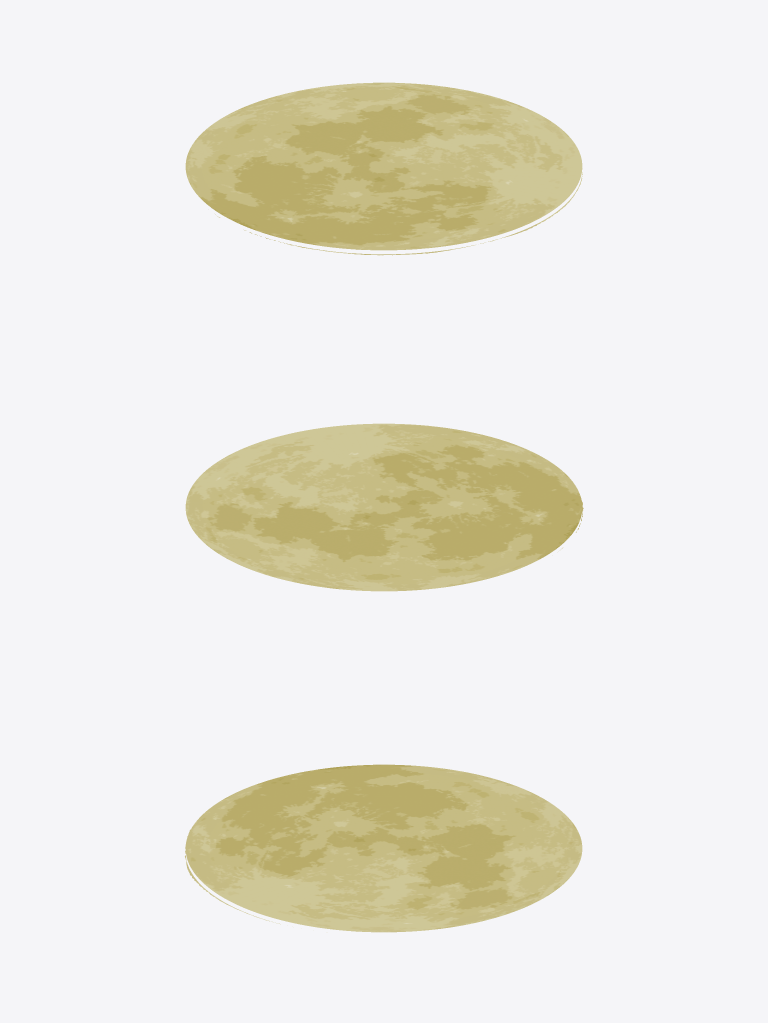
File: moon_mesh.fbx
3 renders of one model, top to bottom at view 1: azimuth 30°, elevation 25°; view 2: azimuth 150°, elevation 25°; view 3: azimuth 270°, elevation 25°, orthographic.
Parts seen in each view (by area): view 1: polySurface2; view 2: polySurface2; view 3: polySurface2.
Boxes of the visible parts, <box> form: polySurface2: <box>185,82,582,250</box>; polySurface2: <box>185,423,582,591</box>; polySurface2: <box>185,764,582,932</box>.
Size of the model in its own units: 2442 by 14.45 by 2442.
